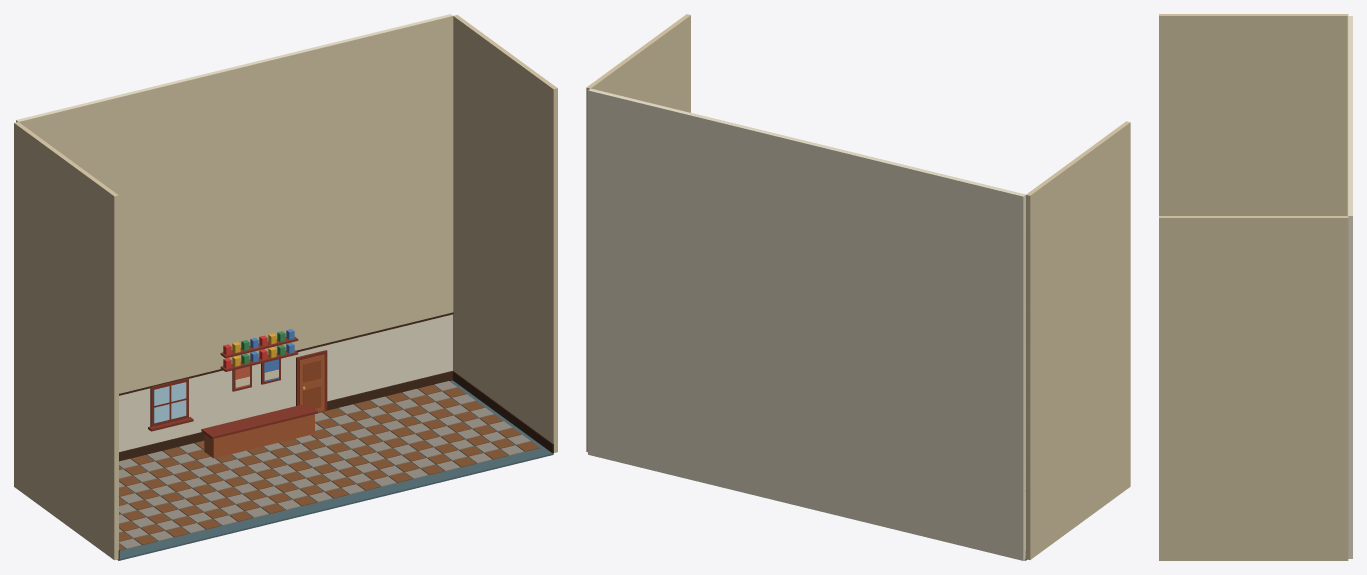
The model's file is room_europa_shop.glb.
3 renders of one model, left to right at view 1: azimuth 30°, elevation 25°; view 2: azimuth 150°, elevation 25°; view 3: azimuth 270°, elevation 25°, orthographic. The views are drawn at different scales.
Visible parts, largest first — view 1: room; view 2: room; view 3: room.
Part boxes in pixels (x1=…): room: x1=14, y1=14, x2=557, y2=560; room: x1=586, y1=14, x2=1130, y2=560; room: x1=1159, y1=14, x2=1352, y2=560.
Size of the model in its own units: 30.6 by 24.11 by 12.3.
